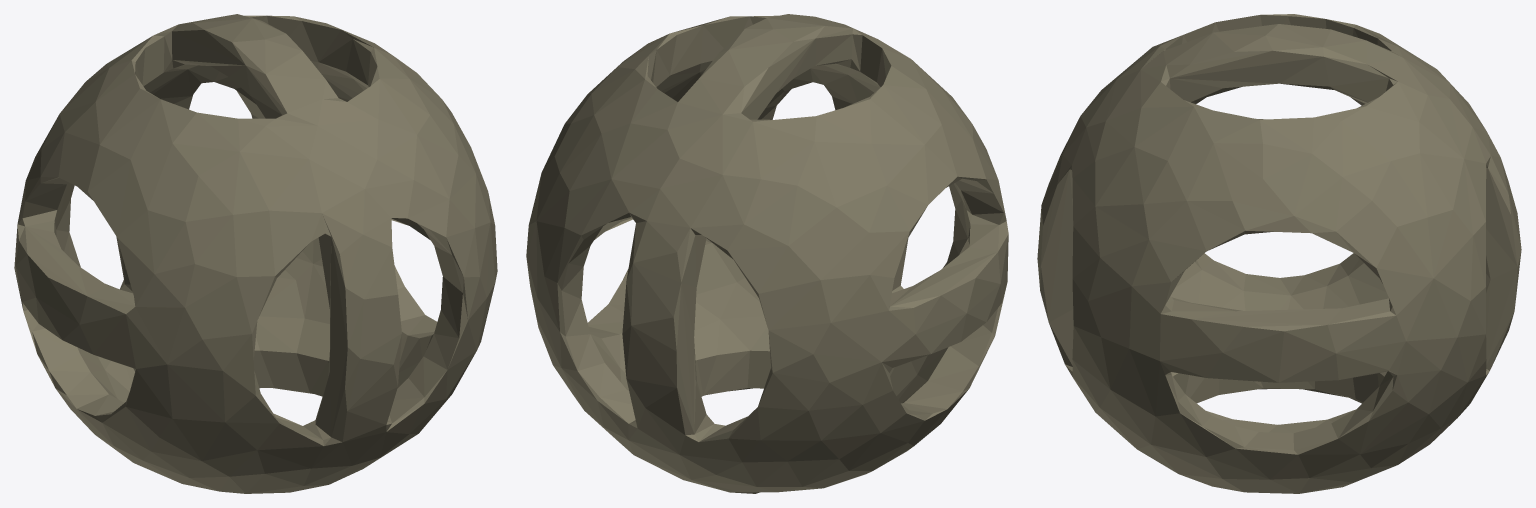
The model's file is MarbleExterior.glb.
3 views of the same model, side by side, from view 1: azimuth 30°, elevation 25°; view 2: azimuth 150°, elevation 25°; view 3: azimuth 270°, elevation 25° (orthographic).
Visible parts, largest first — view 1: MarbleExterior; view 2: MarbleExterior; view 3: MarbleExterior.
Part boxes in pixels (x1=…): MarbleExterior: x1=14, y1=14, x2=497, y2=493; MarbleExterior: x1=526, y1=14, x2=1008, y2=493; MarbleExterior: x1=1037, y1=14, x2=1521, y2=493.
Size of the model in its own units: 0.3678 by 0.3681 by 0.3684.
